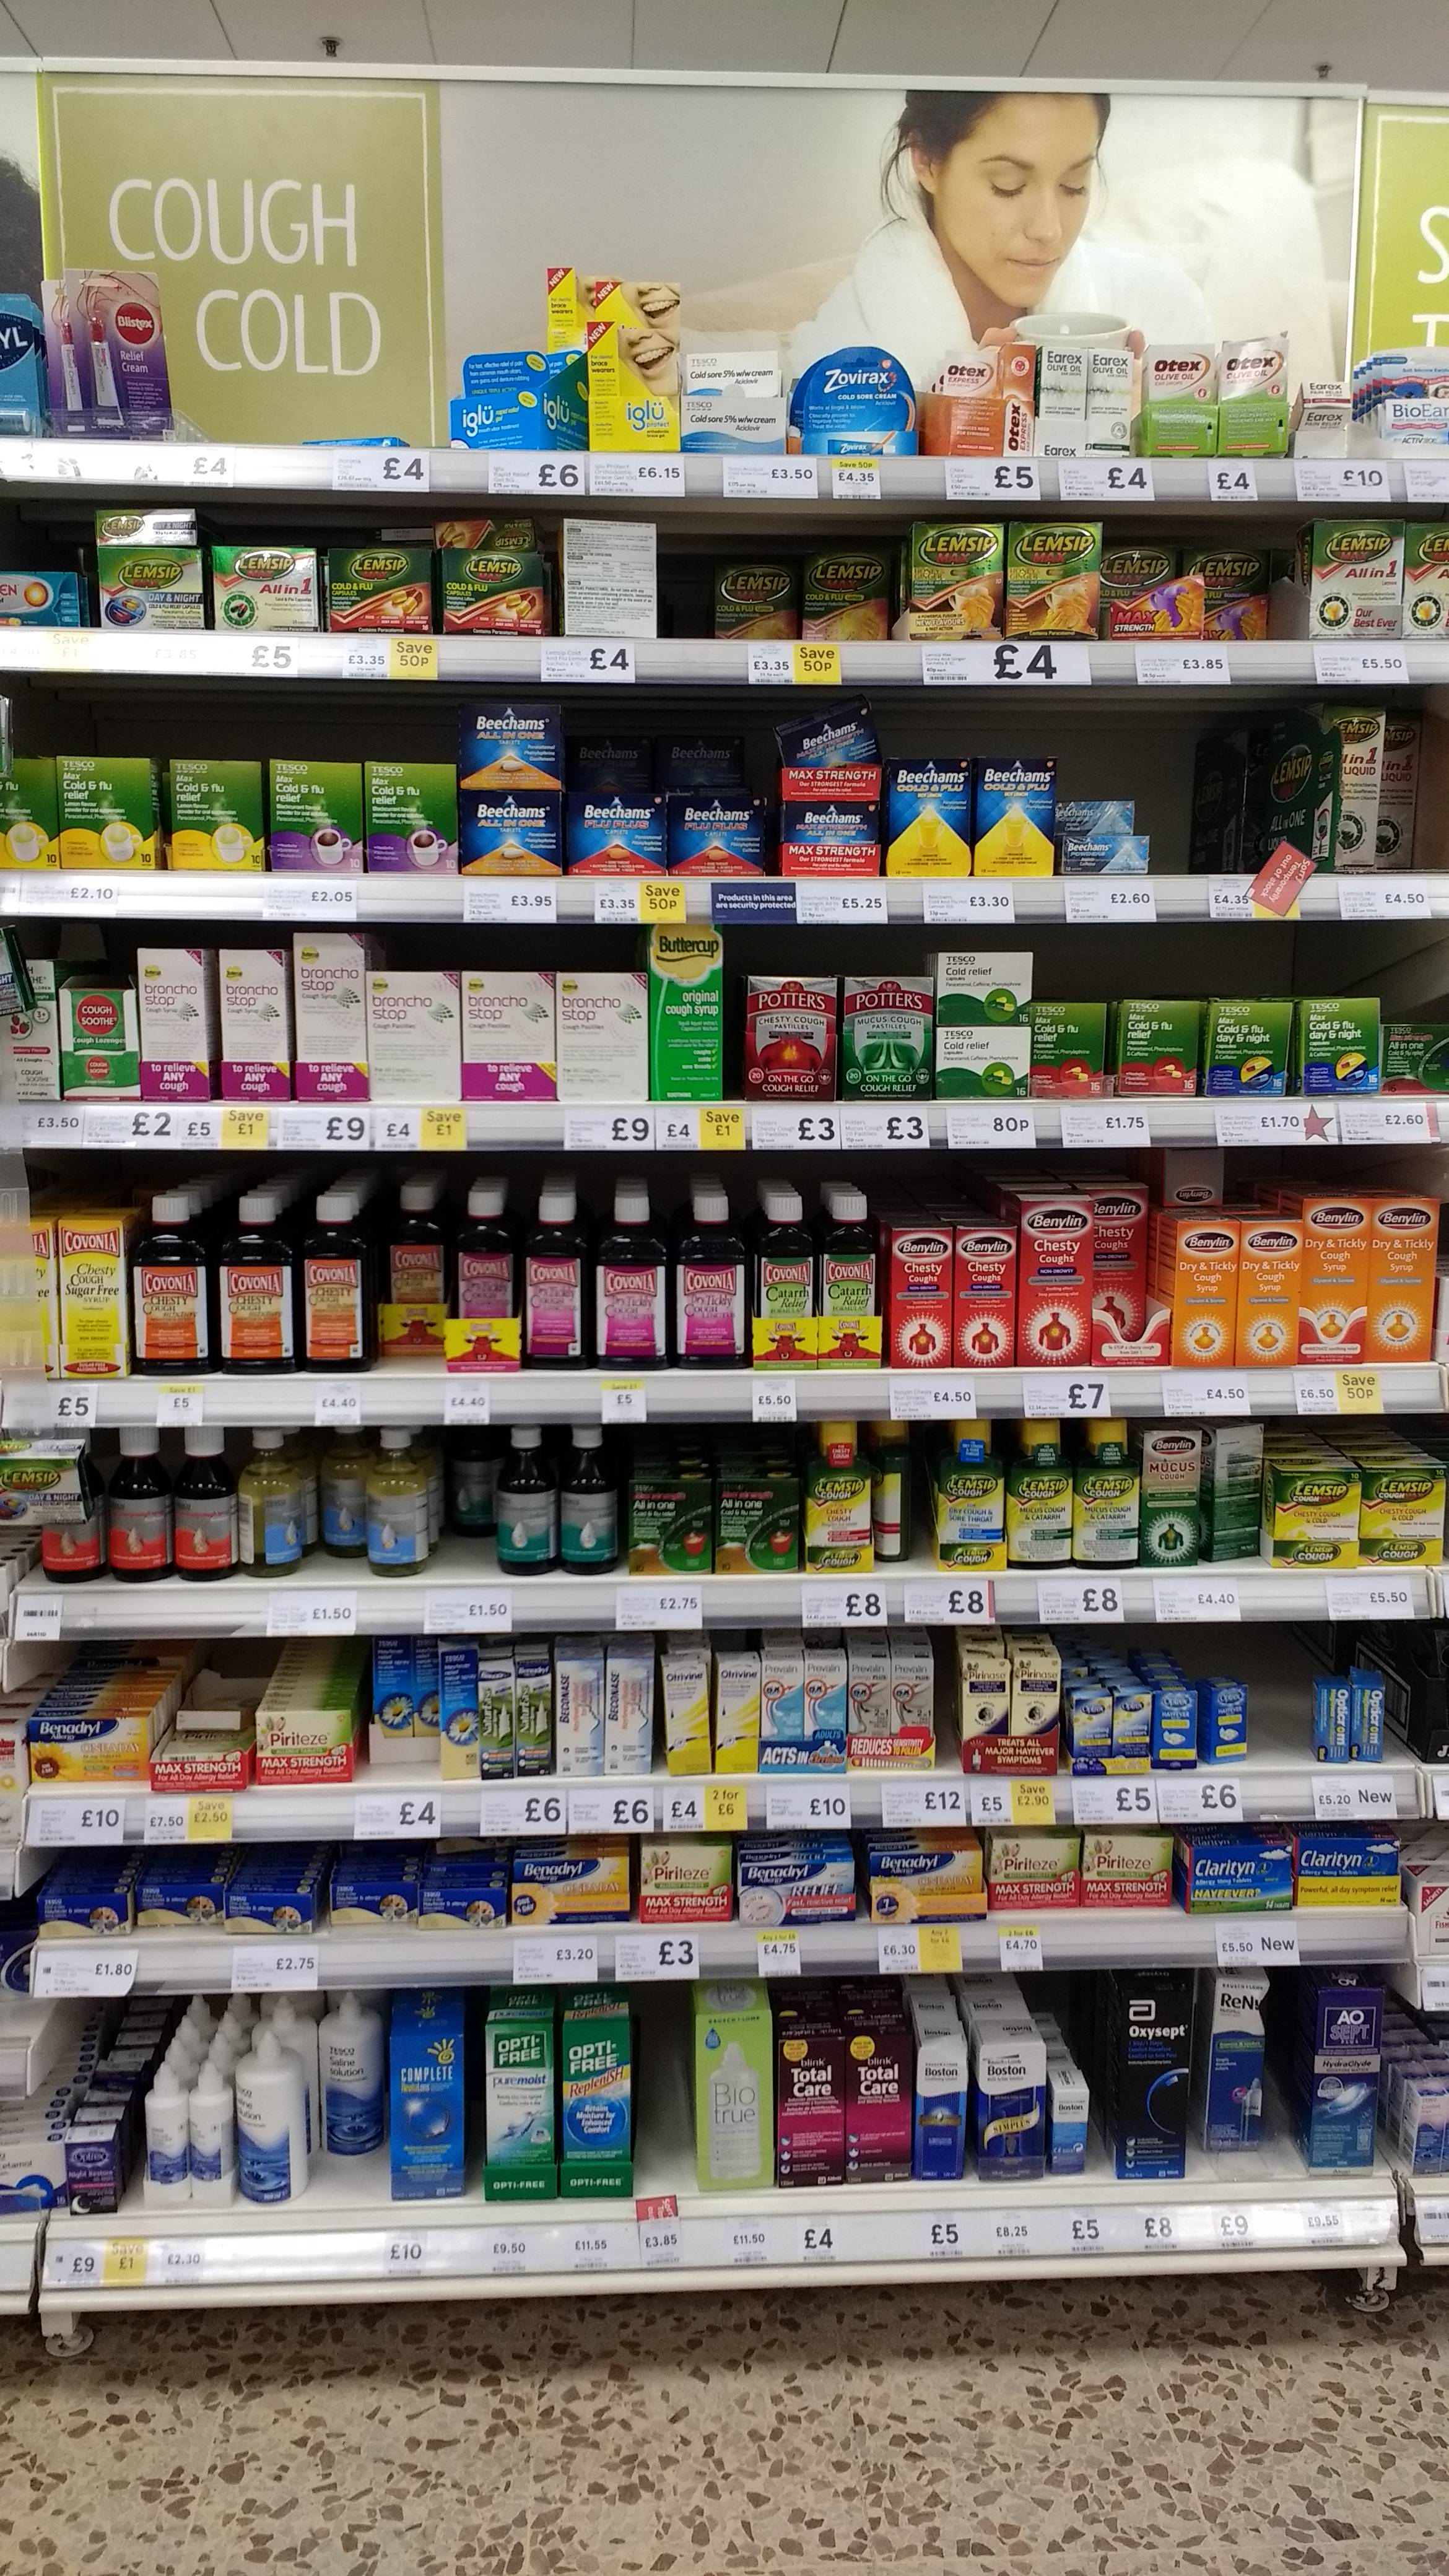Misplacement: (308, 1990, 389, 2206)
Out-of-stock: (633, 1989, 699, 2190)
